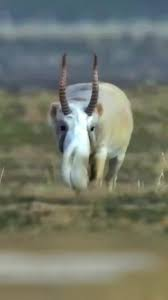saiga: (50, 53, 135, 205)
